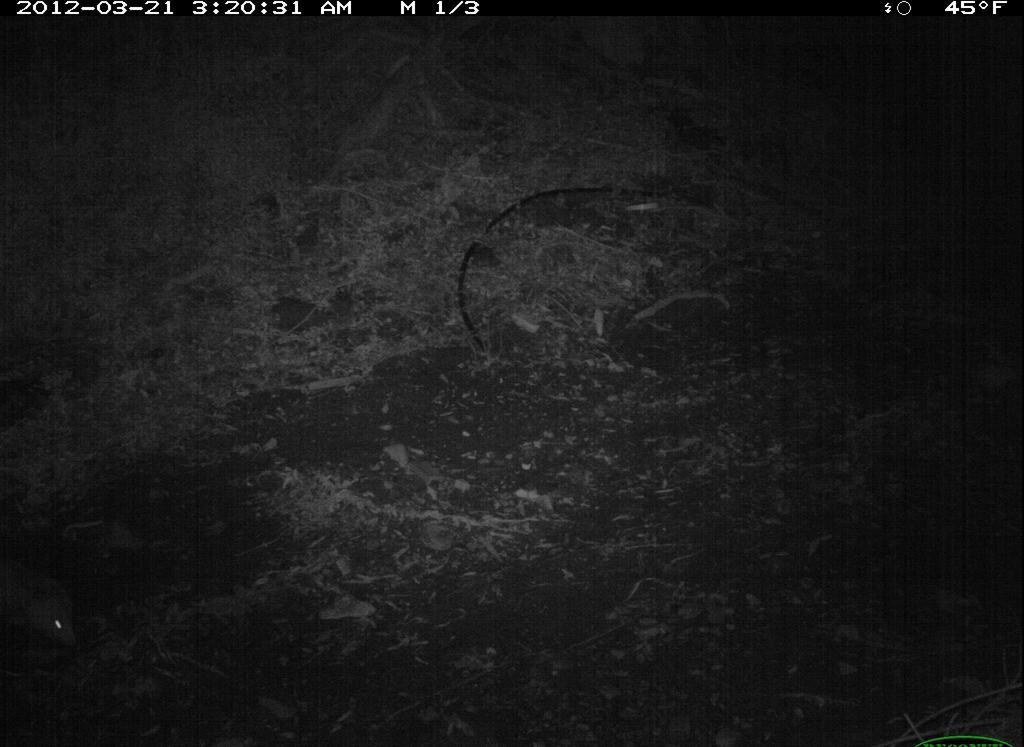opossum: (2, 560, 88, 657)
